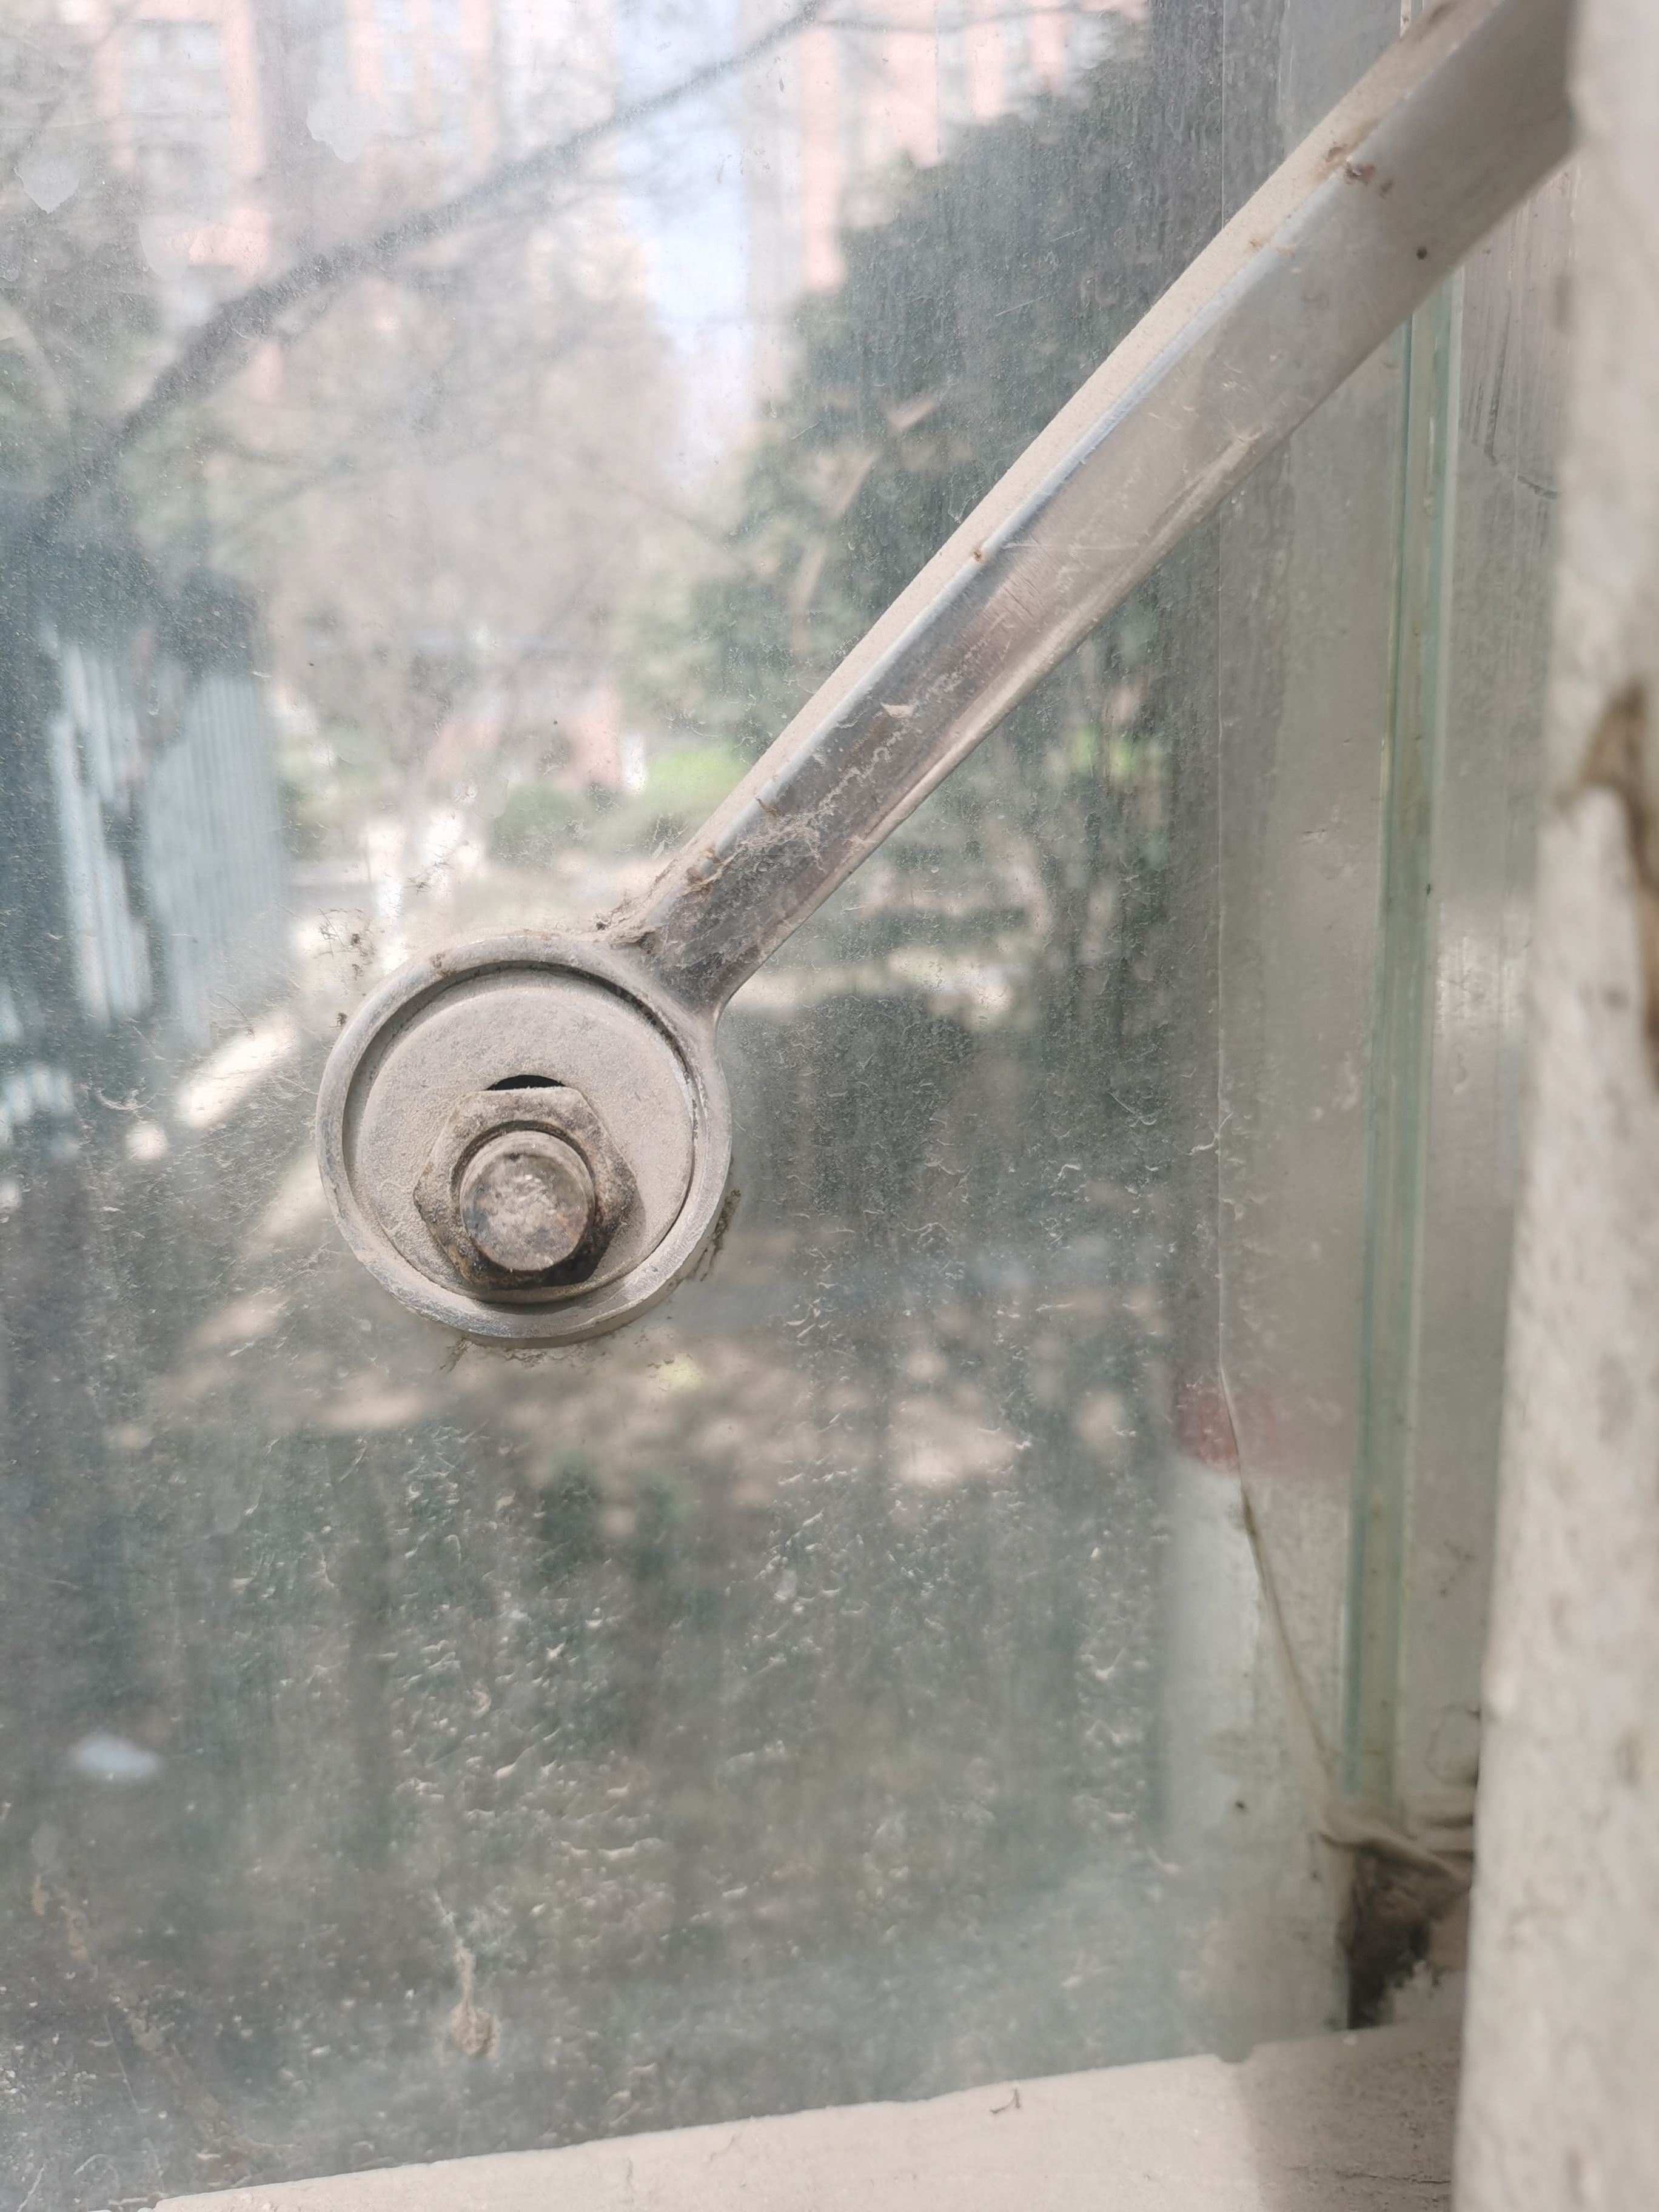bolt_b: (408, 1080, 641, 1301)
